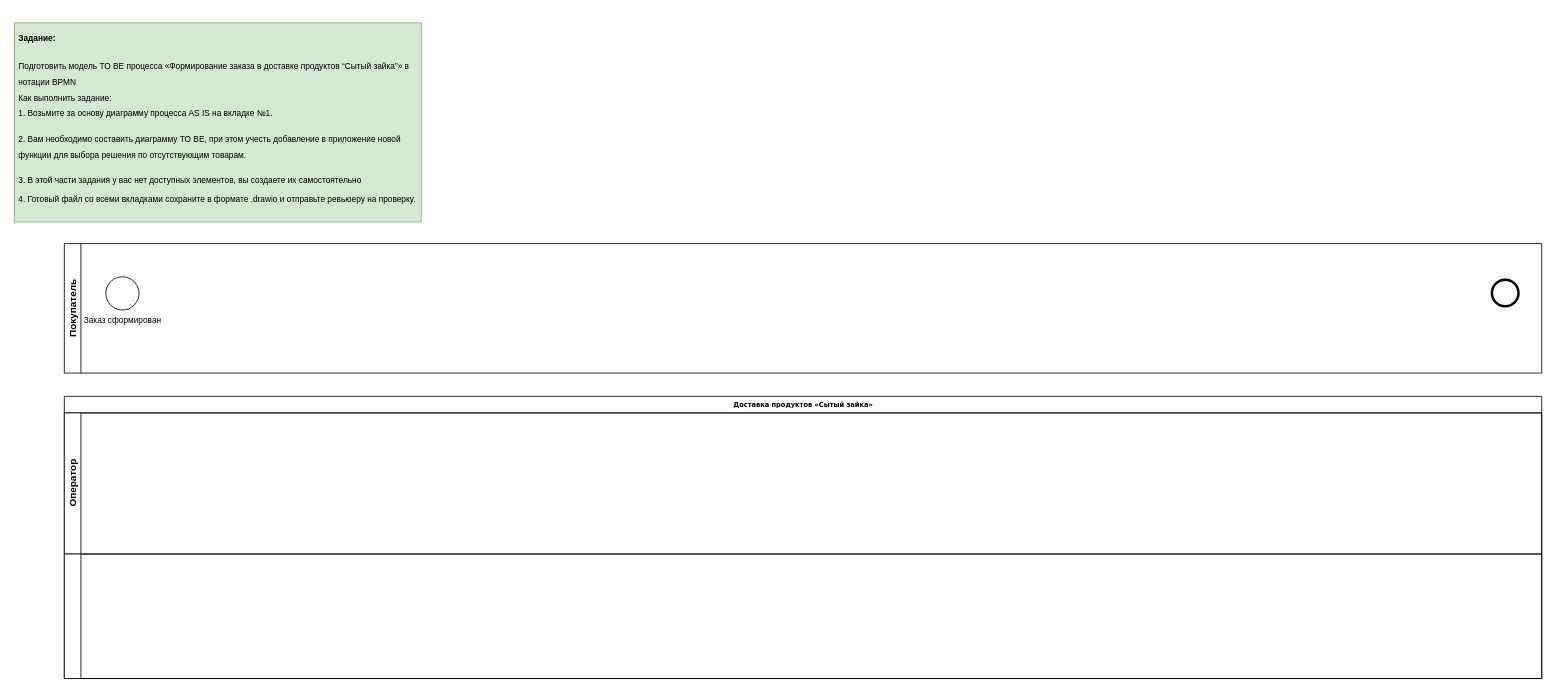
The diagram is 1556 pixels wide and 693 high, and some of its shapes have lost their labels. The centre of each missing label's shape, as x and y in pixels:
Заказ получен: the point at 1504,292
Курьер: the point at 802,616
